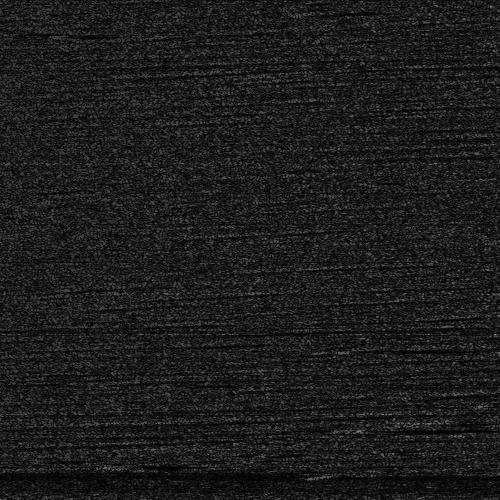rock: (78, 462, 151, 467), (310, 426, 373, 431)
shadow: (342, 426, 482, 431), (115, 462, 146, 467)
